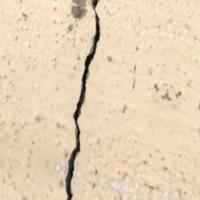crack: (55, 0, 114, 199)
